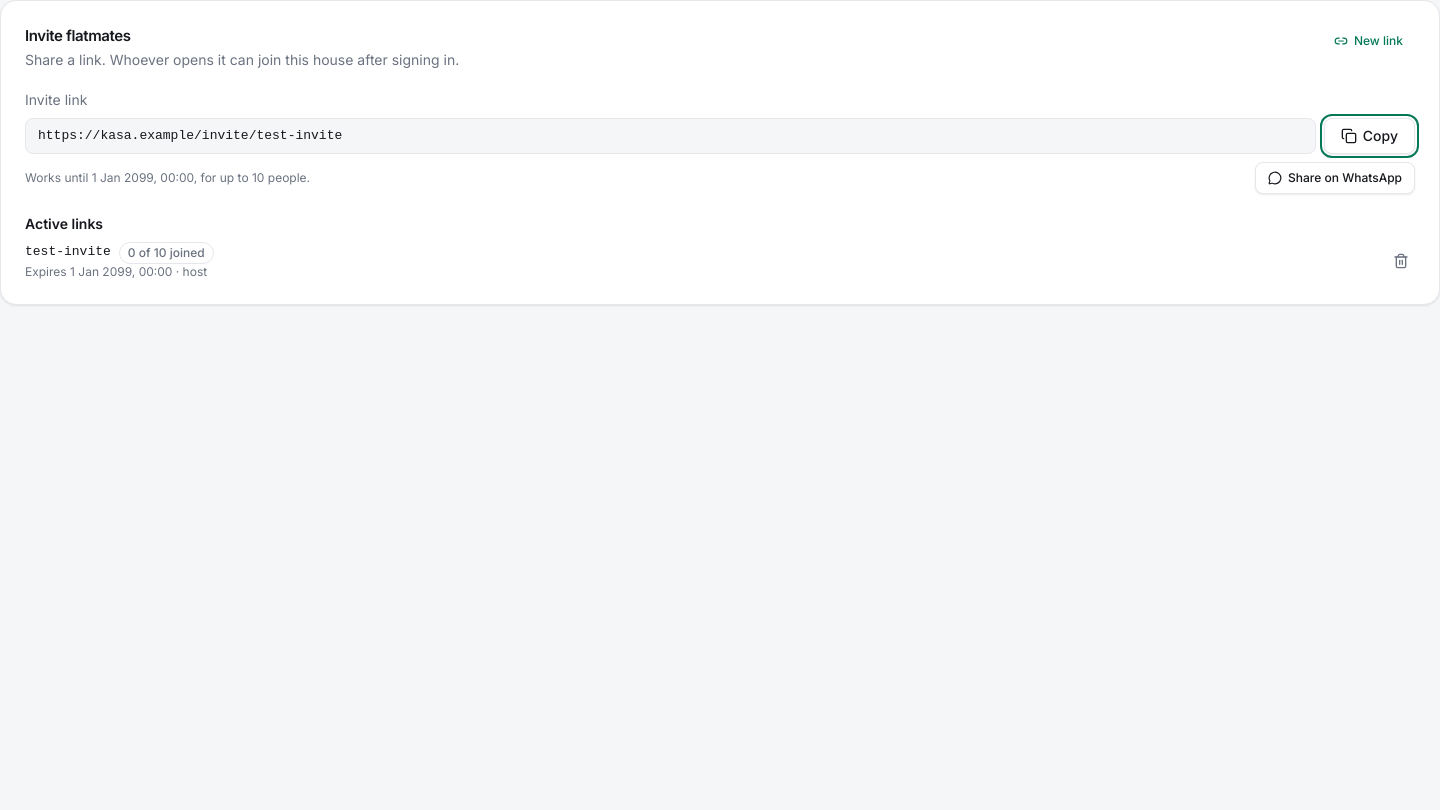
announces clipboard success=true and offers manual copying on failure
Expected: the button named "Cancel invite link test-invite" is shown, x1=1387 y1=246 x2=1415 y2=274
Click the button "Copy".
click(1369, 136)  # box x1=1324 y1=118 x2=1415 y2=154
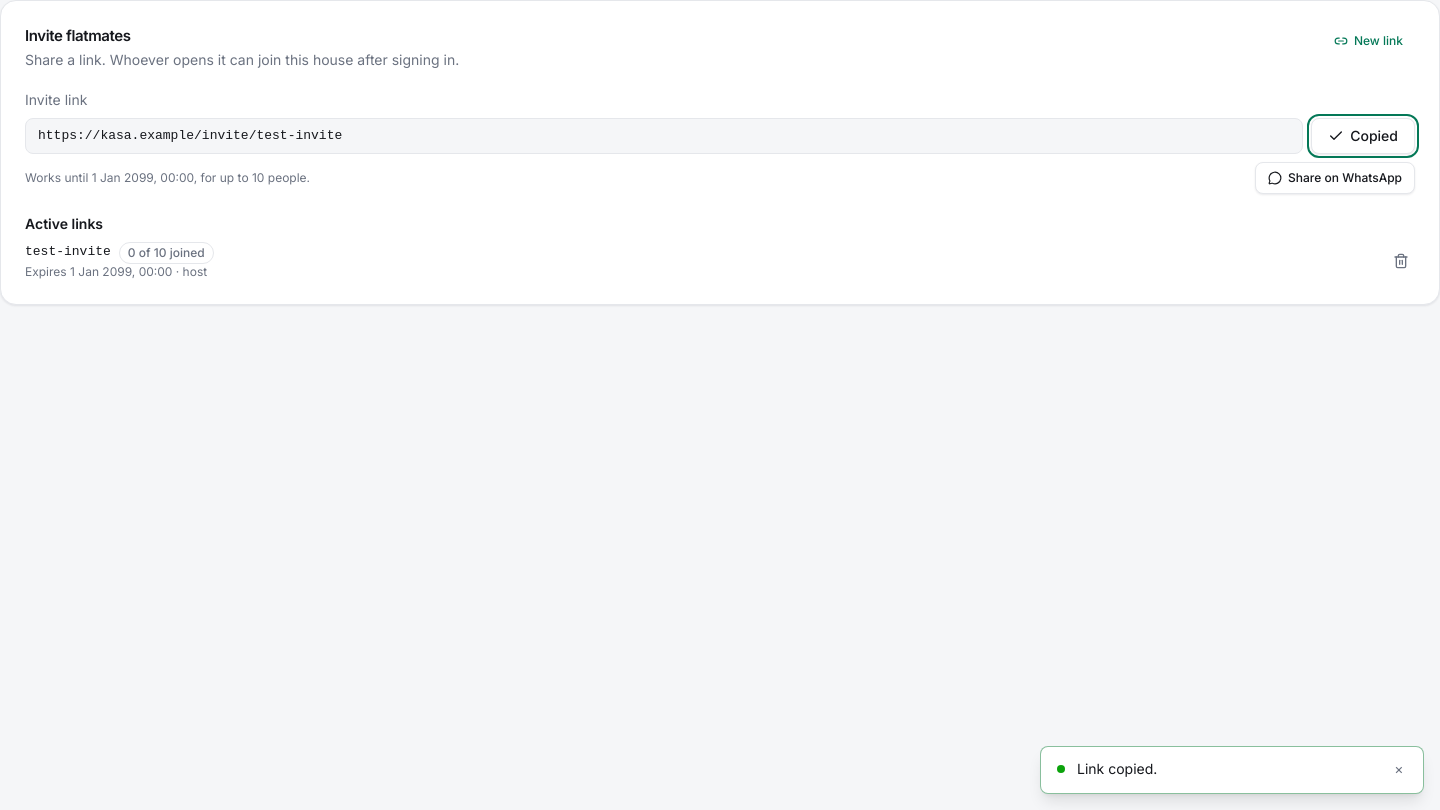
Expected: the message shows "Link copied.", x1=1077 y1=760 x2=1157 y2=777
